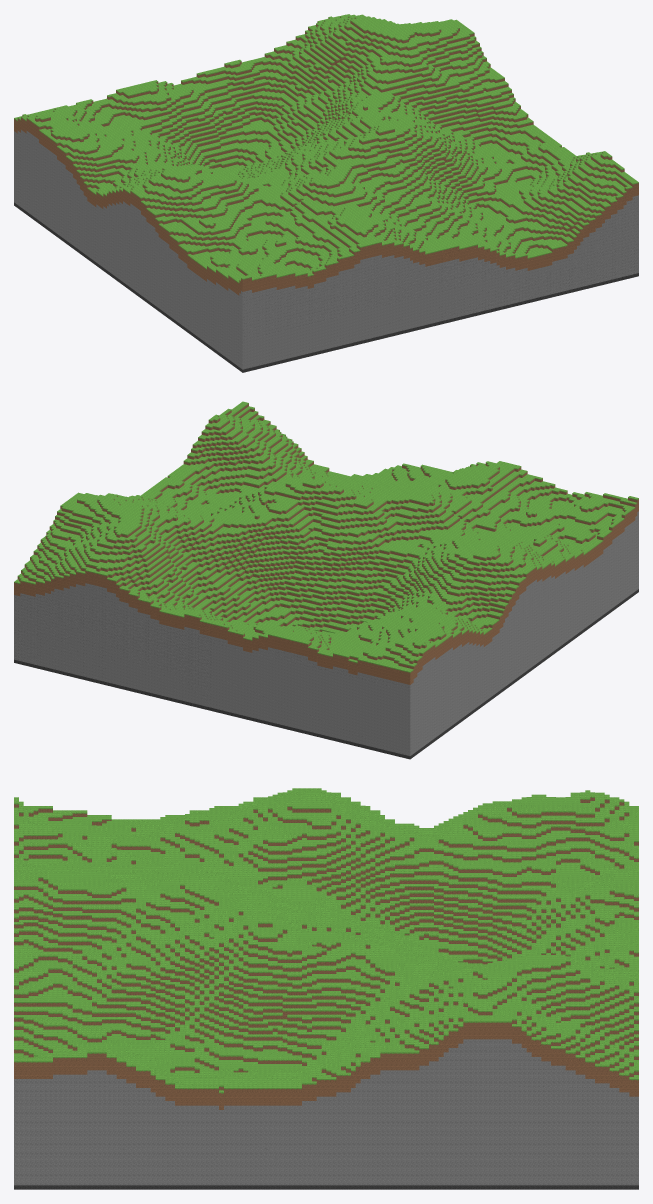
The model's file is etape5.glb.
The picture shows the model from 3 angles, top to bottom: view 1: azimuth 30°, elevation 25°; view 2: azimuth 150°, elevation 25°; view 3: azimuth 270°, elevation 25°; orthographic projection. The views are drawn at different scales.
Visible parts, largest first — view 1: world, cut; view 2: world, cut; view 3: world, cut.
Boxes of the visible parts, x1=… form: world: x1=14, y1=14, x2=638, y2=372; cut: x1=212, y1=67, x2=638, y2=323; world: x1=14, y1=401, x2=638, y2=759; cut: x1=14, y1=466, x2=438, y2=703; world: x1=14, y1=788, x2=638, y2=1189; cut: x1=14, y1=902, x2=638, y2=988.
Size of the model in its own units: 128 by 40 by 128.
Materials: 5 (5 with a texture image).
